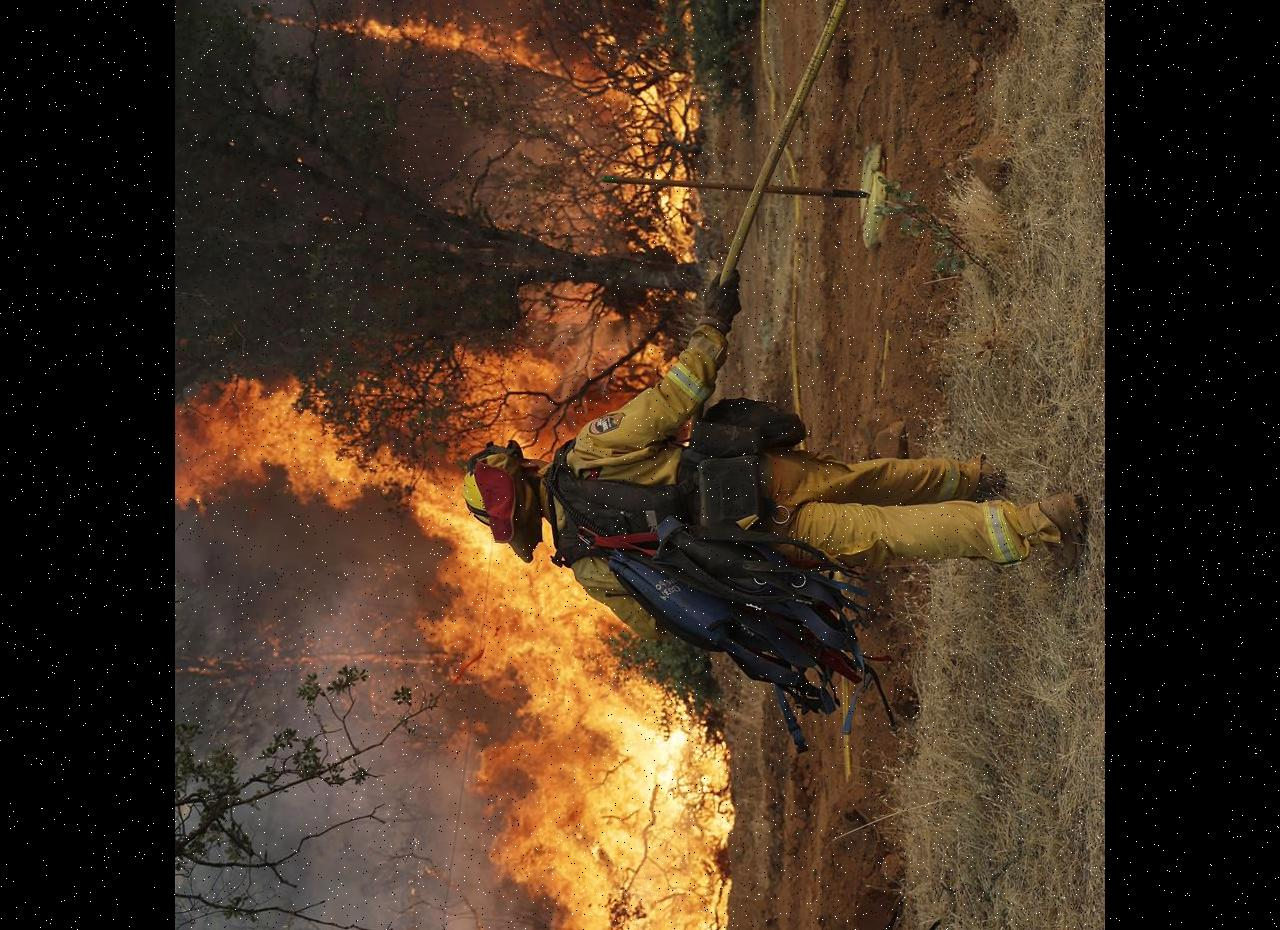fire: (387, 575, 763, 930), (175, 314, 559, 570), (547, 0, 728, 255)
